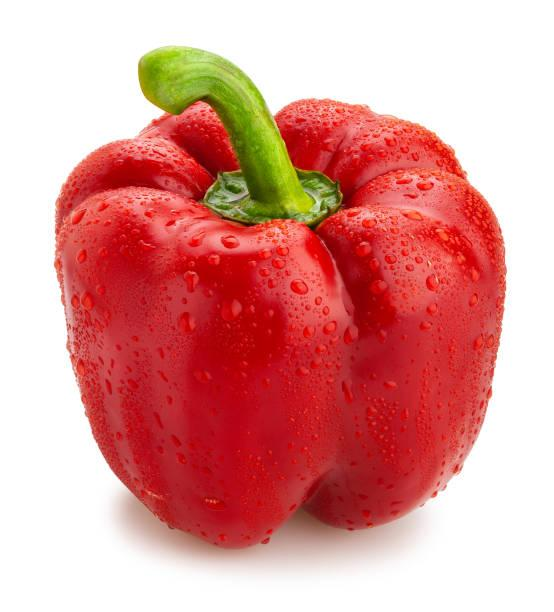Capsicum: (47, 37, 510, 548)
